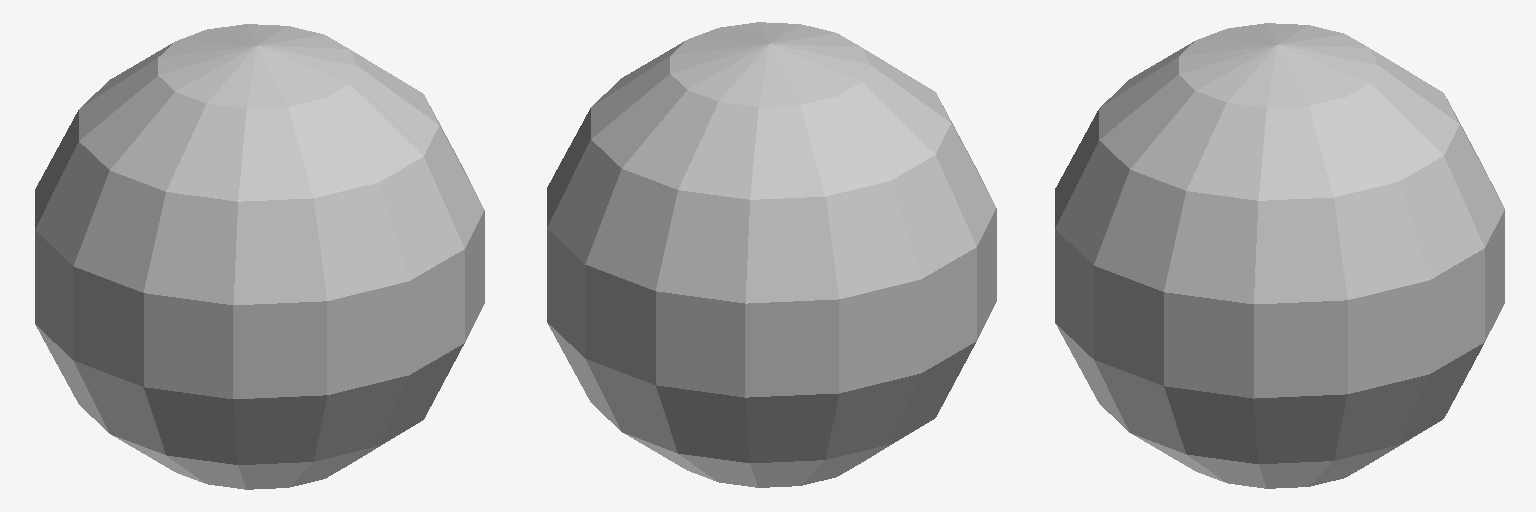
The model's file is LowPoly2.obj.
3 renders of one model, left to right at view 1: azimuth 30°, elevation 25°; view 2: azimuth 150°, elevation 25°; view 3: azimuth 270°, elevation 25°, orthographic.
Visible parts, largest first — view 1: LowPoly2; view 2: LowPoly2; view 3: LowPoly2.
Boxes of the visible parts, x1,y1,x2,y2 form: LowPoly2: [35, 24, 484, 489]; LowPoly2: [547, 22, 996, 487]; LowPoly2: [1055, 23, 1504, 488].
Bounding box in the file's own units: 1.94 × 2 × 1.93.